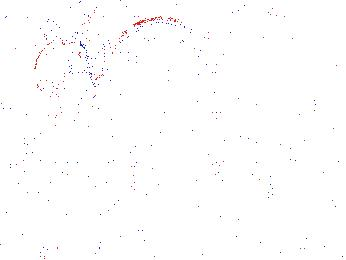moon jellyfish: (107, 18, 210, 89), (33, 35, 90, 105), (260, 27, 345, 73)
